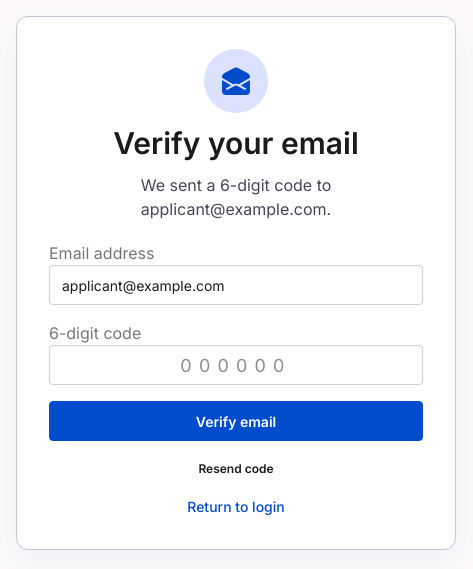
it: VerifyEmailCard › resends a verification code
Click the button "Resend code": (236, 469) [185,453,287,485]
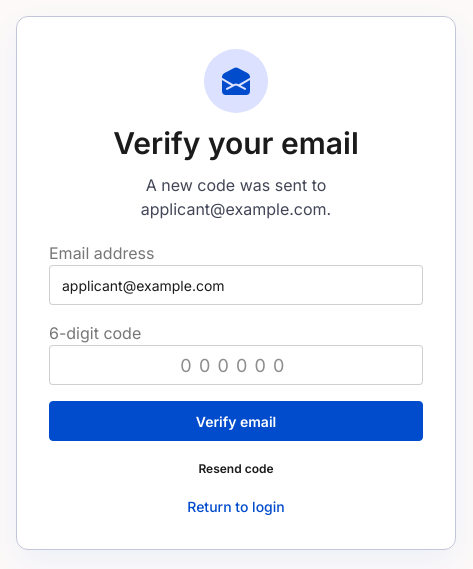
Expected: the text "A new code was sent to applicant@example.com." is shown, [141,175,331,219]
